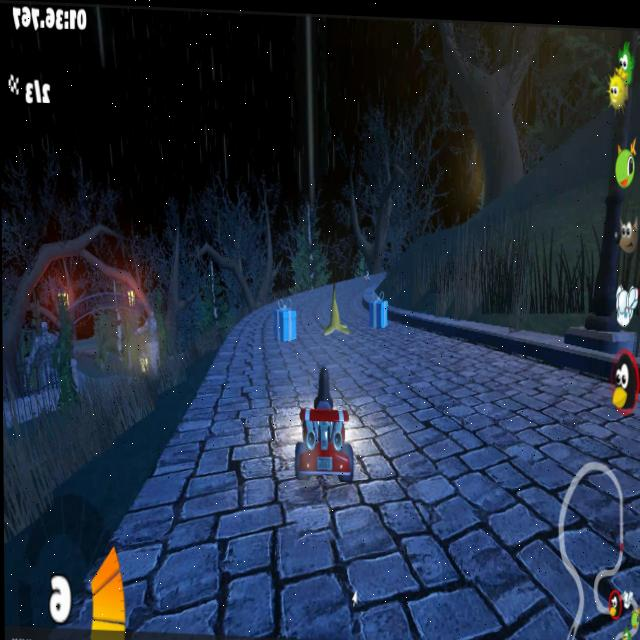bonus: (275, 301, 300, 346), (364, 300, 394, 331)
obstacle: (320, 286, 352, 353)
track: (359, 359, 587, 640), (137, 478, 357, 640), (187, 343, 300, 484), (581, 411, 640, 640), (306, 326, 491, 371), (354, 266, 378, 295), (304, 289, 315, 316)
